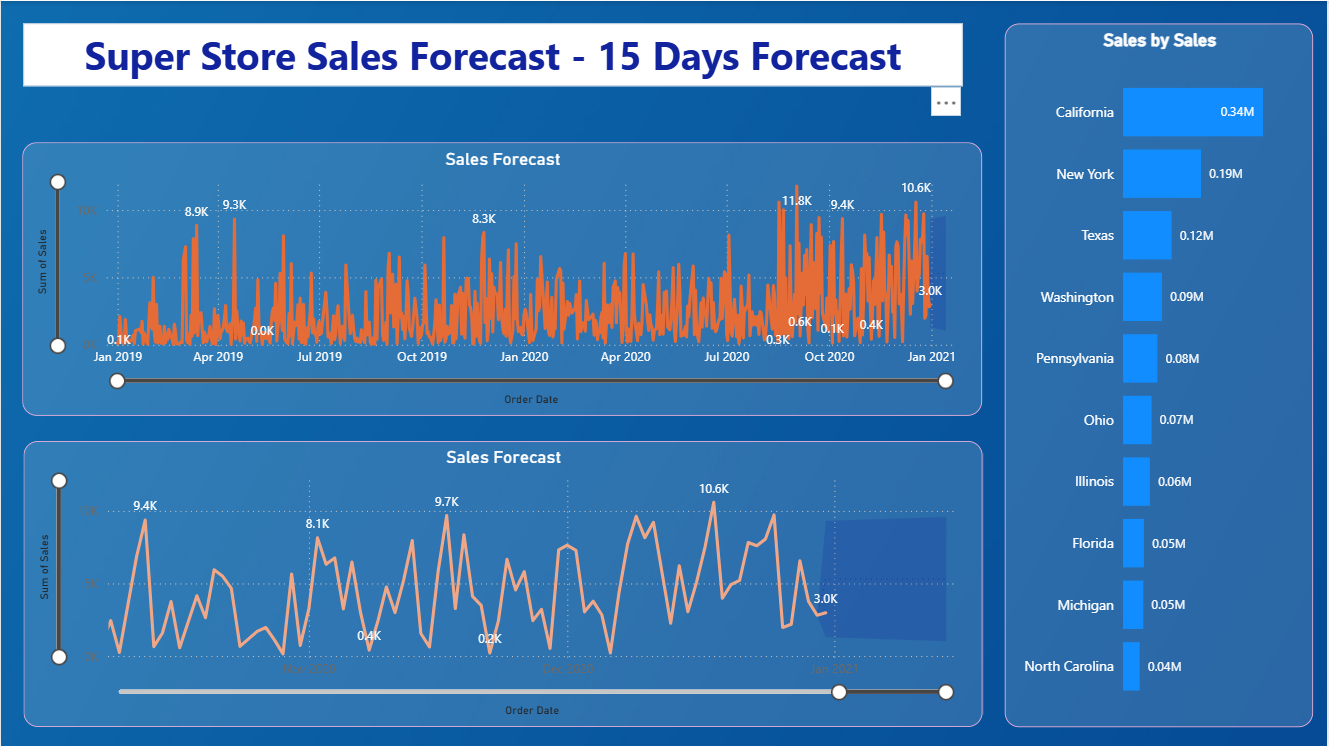

This screenshot's page, from the dashboard's own definition file:
{"tool":"powerbi","page":{"name":"SalesForcasting","canvas":[1280,720],"ordinal":1},"visuals":[{"type":"lineChart","title":"Sales Forecast ","fields":{"Y":["Sum(SuperStore_Sales_Dataset.Sales)"],"Category":["SuperStore_Sales_Dataset.Order Date"]},"box":[20.5,136.3,926.5,264.2],"z":0},{"type":"lineChart","title":"Sales Forecast","fields":{"Y":["Sum(SuperStore_Sales_Dataset.Sales)"],"Category":["SuperStore_Sales_Dataset.Order Date"]},"box":[22,424.3,925.7,276.4],"z":1000},{"type":"textbox","box":[22,22,906.1,59.9],"z":2000},{"type":"clusteredBarChart","title":"Sales by Sales","fields":{"Category":["SuperStore_Sales_Dataset.State"],"Y":["Sum(SuperStore_Sales_Dataset.Sales)"]},"box":[968.8,21.7,298,679.2],"z":3000}]}

Visuals, with their boxes in screenshot pixels (x1, y1, x2, y2), scaled from the page's 1280x720 canvas onto the 1329x746 screenshot:
"Sales Forecast " lineChart: [21,141,983,415]
"Sales Forecast" lineChart: [23,440,984,726]
textbox: [23,23,964,85]
"Sales by Sales" clusteredBarChart: [1006,22,1315,726]
